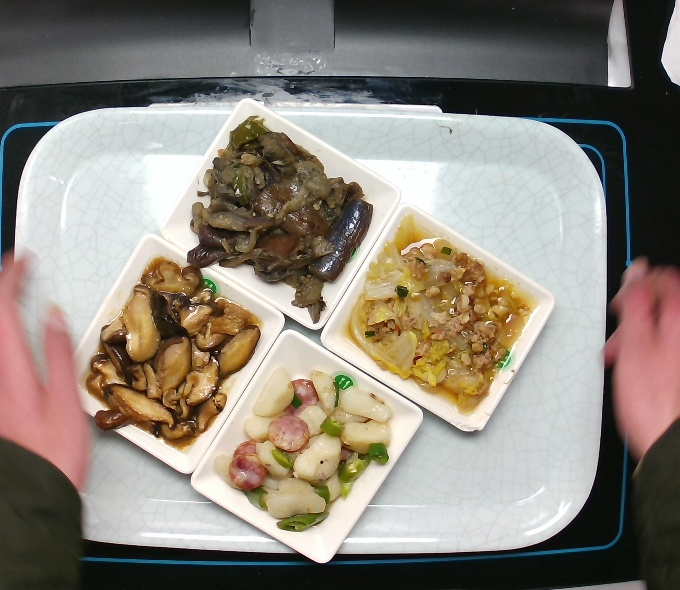wcq-MaTiGuo: (210, 361, 397, 535)
wcq-MoGu: (77, 254, 265, 454)
wcq-QieZi: (182, 112, 376, 327)
wcq-RouMoBaiCai: (336, 210, 541, 421)
